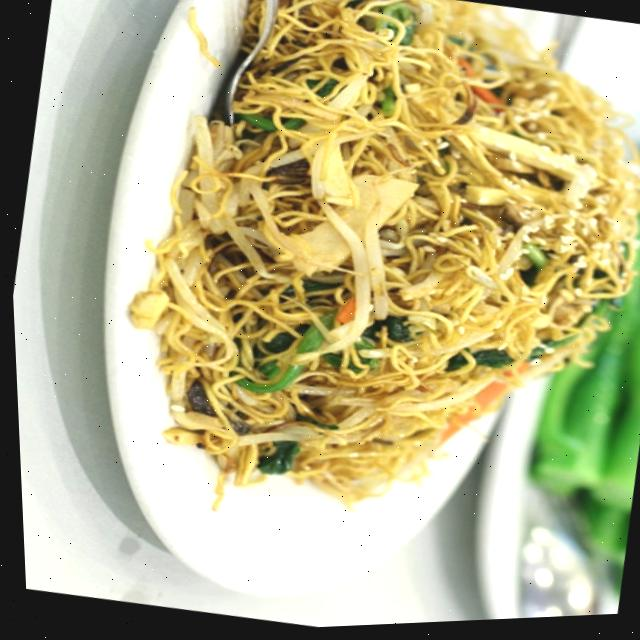面条主食: (50, 0, 640, 632)
